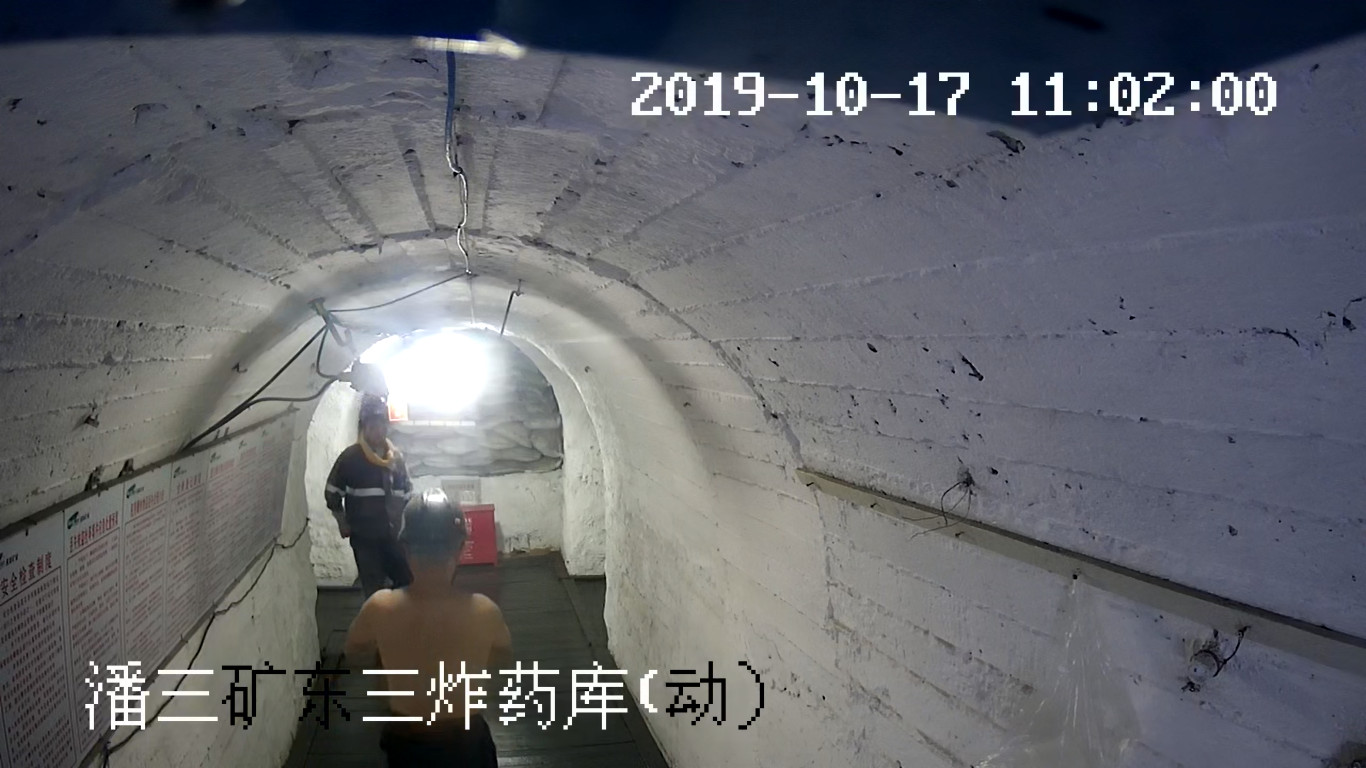helmet: (397, 485, 467, 543), (358, 403, 386, 428)
